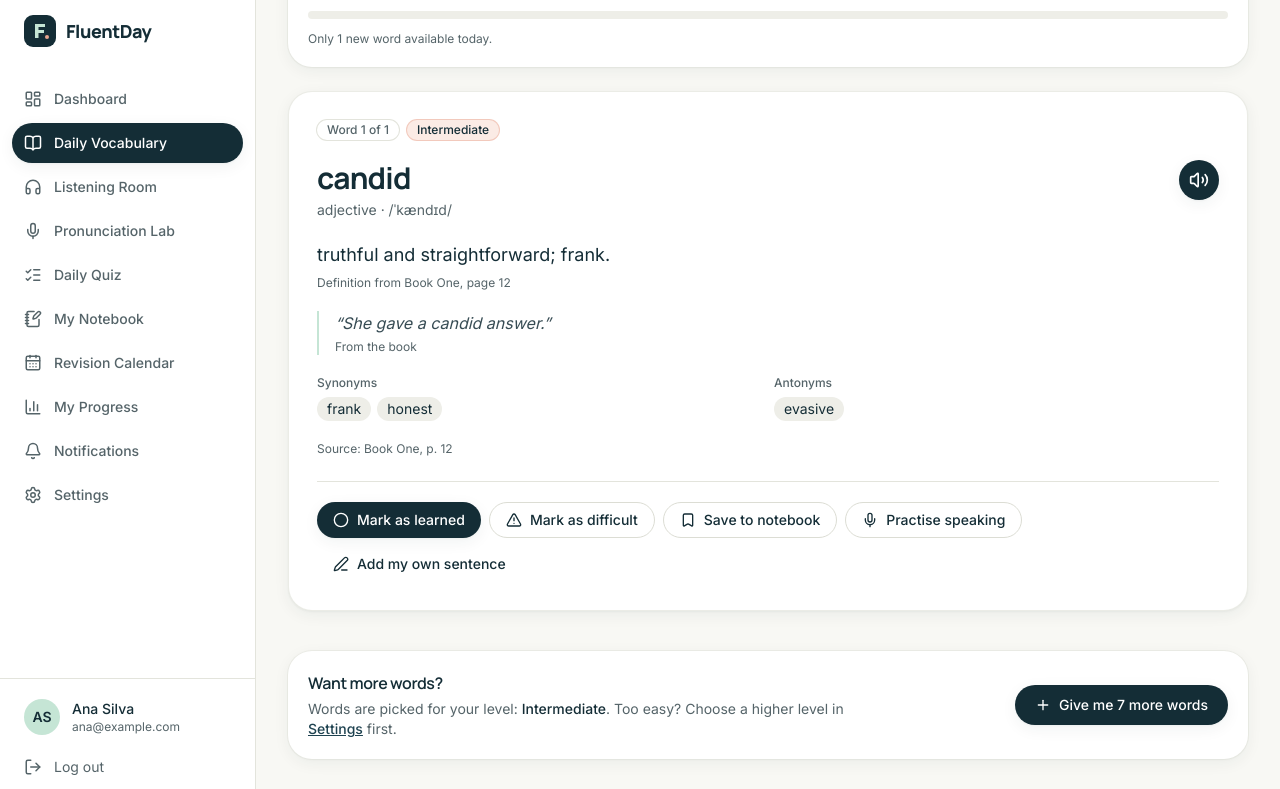
Scenario: daily vocabulary › adds seven more words when the learner asks, keeping their progress
(page scrolled)
Expected: the text "picked for your level" shows "intermediate", x1=522 y1=700 x2=606 y2=717
Click the button "Give me 7 more words". click: (1122, 705)
box: x1=1015 y1=685 x2=1228 y2=725
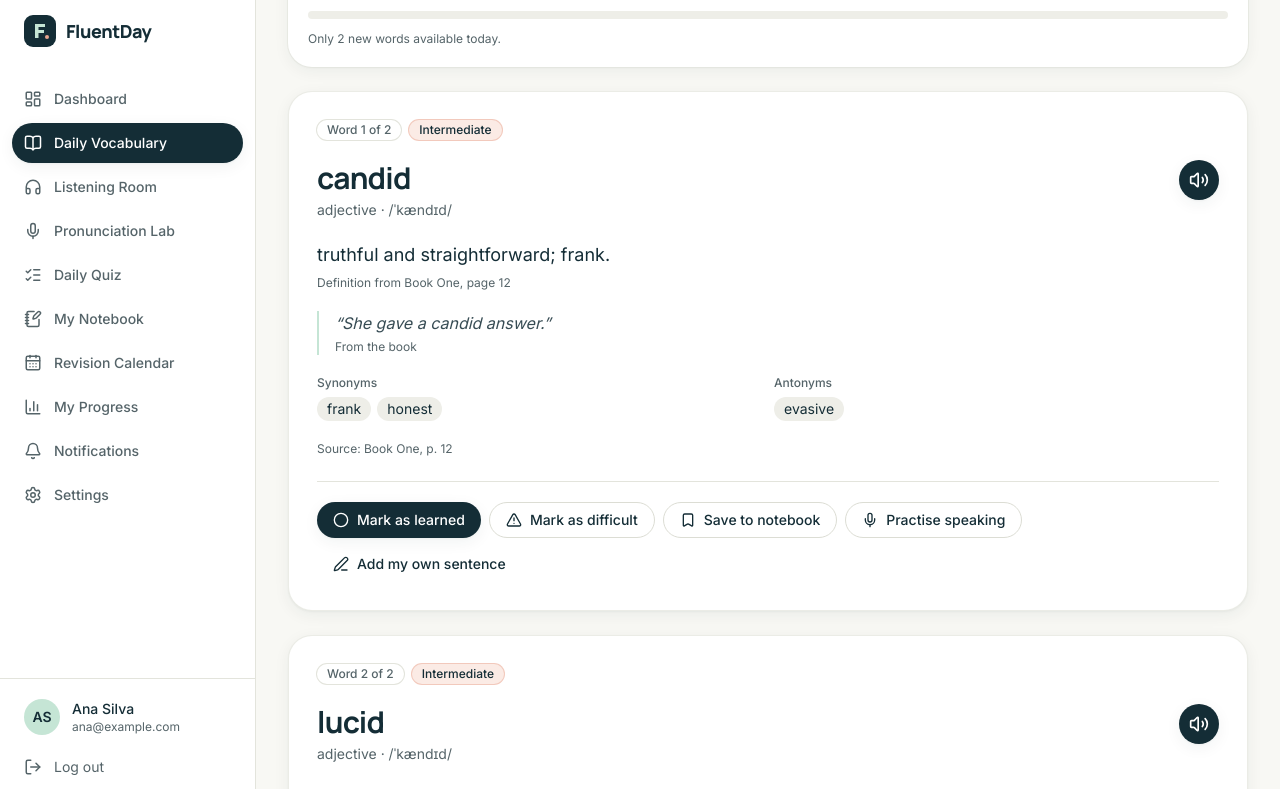
Now the link "lucid" is shown, box x1=317 y1=701 x2=384 y2=742
Now the text "Word 2 of 2" is shown, box x1=317 y1=664 x2=404 y2=684
Now the heading "more words" is gone
